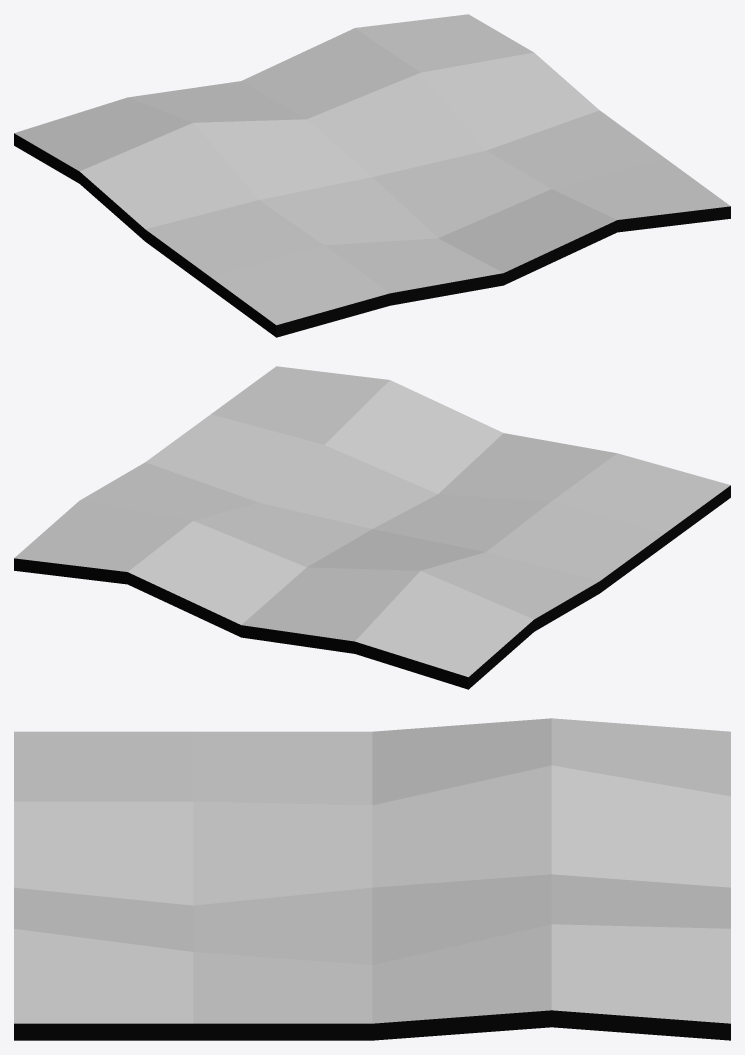
The model's file is surat khabar.fbx.
3 renders of one model, top to bottom at view 1: azimuth 30°, elevation 25°; view 2: azimuth 150°, elevation 25°; view 3: azimuth 270°, elevation 25°, orthographic. The views are drawn at different scales.
Parts seen in each view (by area): view 1: newspaper; view 2: newspaper; view 3: newspaper.
Part boxes in pixels (box(x1,y1,x2,y2)): newspaper: box(14, 14, 730, 337); newspaper: box(14, 366, 730, 689); newspaper: box(14, 718, 730, 1040).
Size of the model in its own units: 75 by 9.4 by 75.
